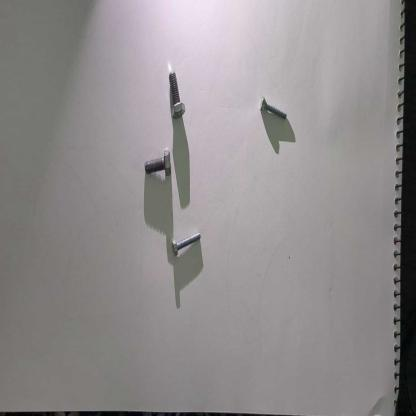Bolts: (164, 68, 188, 125), (170, 225, 204, 263), (258, 94, 290, 133), (144, 146, 172, 186)
